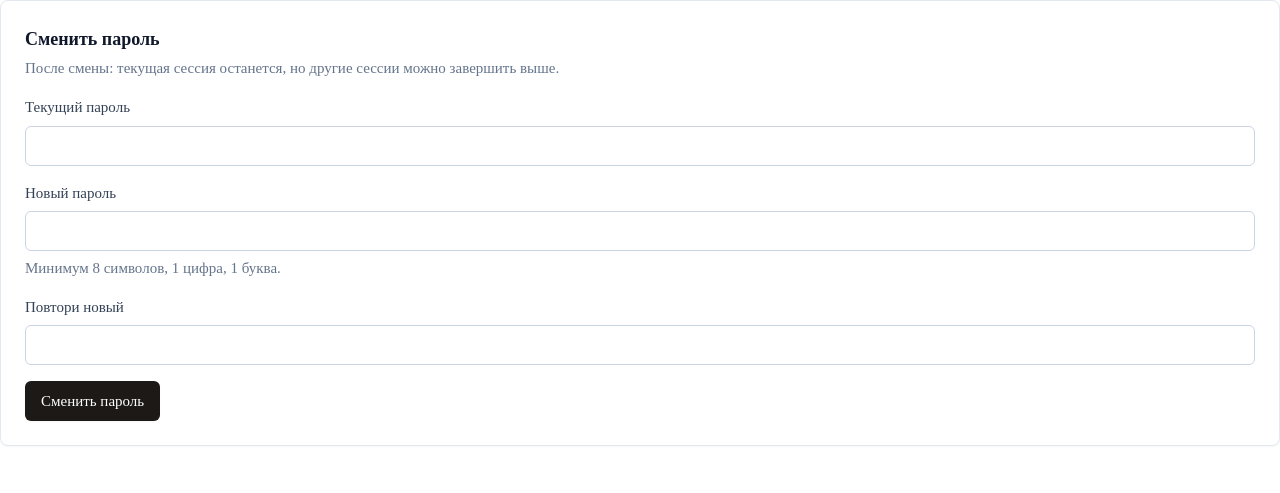
Test case: <ChangePasswordCard> › валидация: новый пароль <8 символов — error
In the password field labelled "Текущий пароль": (640, 146) [25,126,1255,166], type "old-password-1"
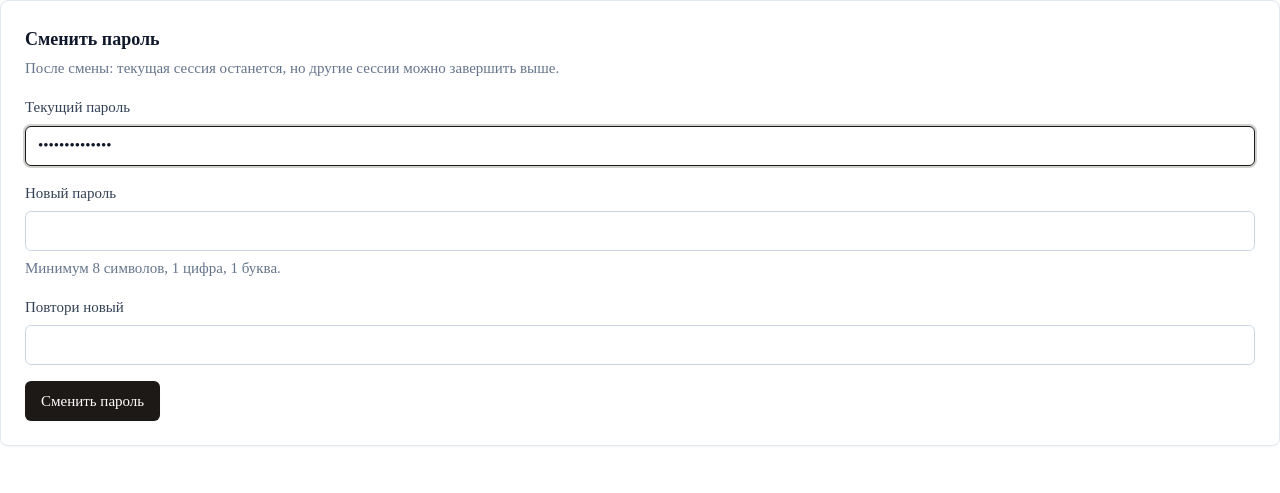
In the password field labelled "Новый пароль": (640, 231) [25,211,1255,251], type "short"
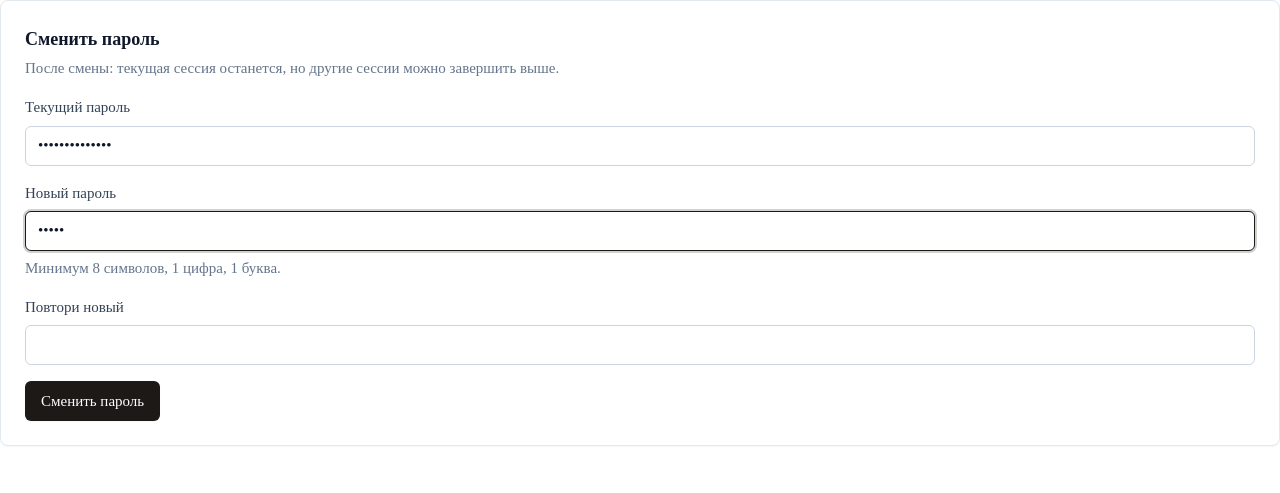
In the password field labelled "Повтори новый": (640, 345) [25,325,1255,365], type "short"
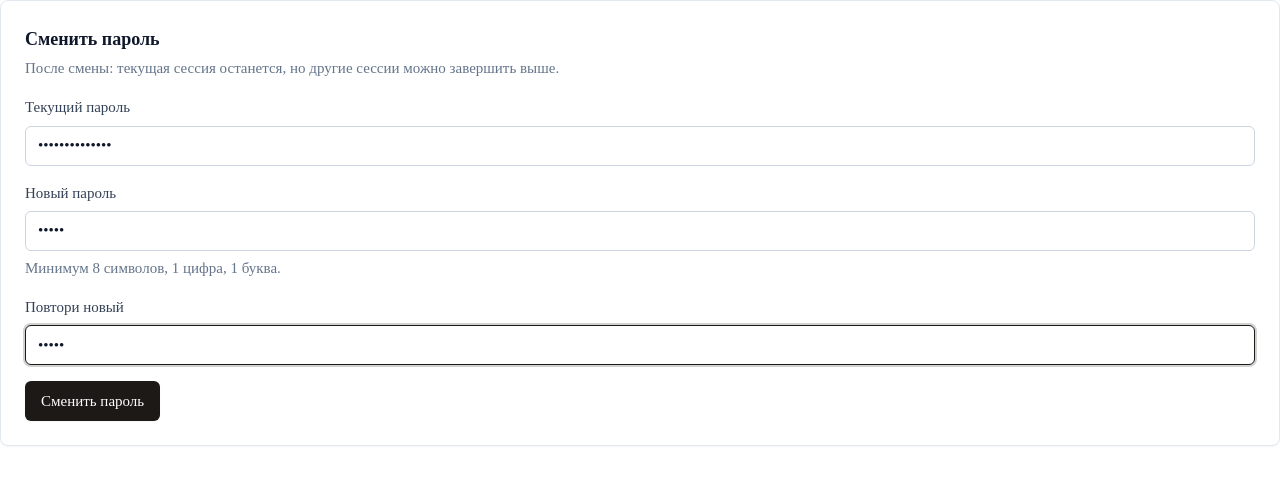
Click the button "Сменить пароль": (93, 401) [25,381,160,421]
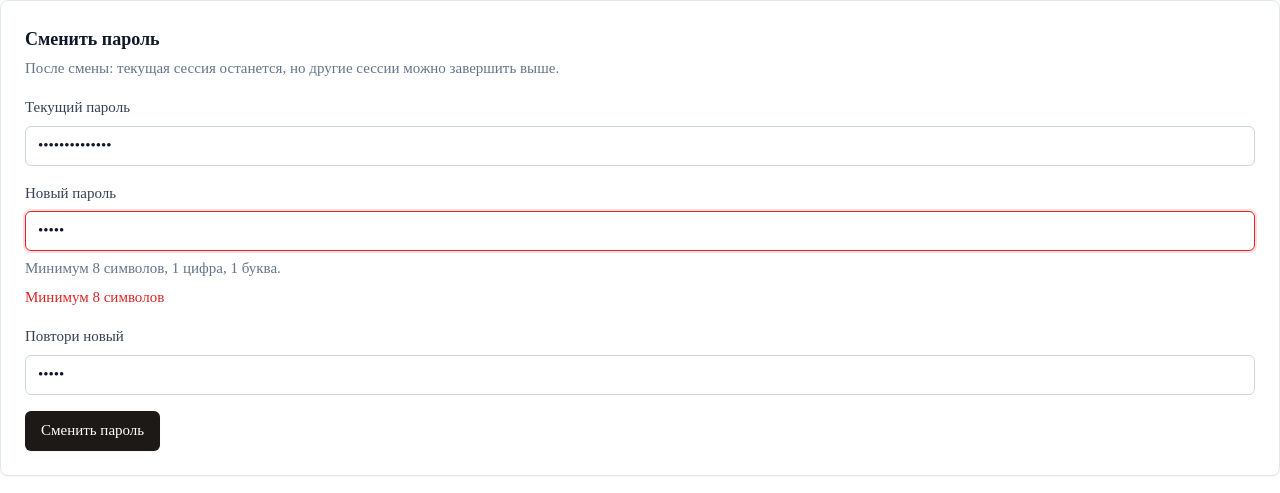
Result: the text "Минимум 8 символов" is shown at [25,289,164,305]
